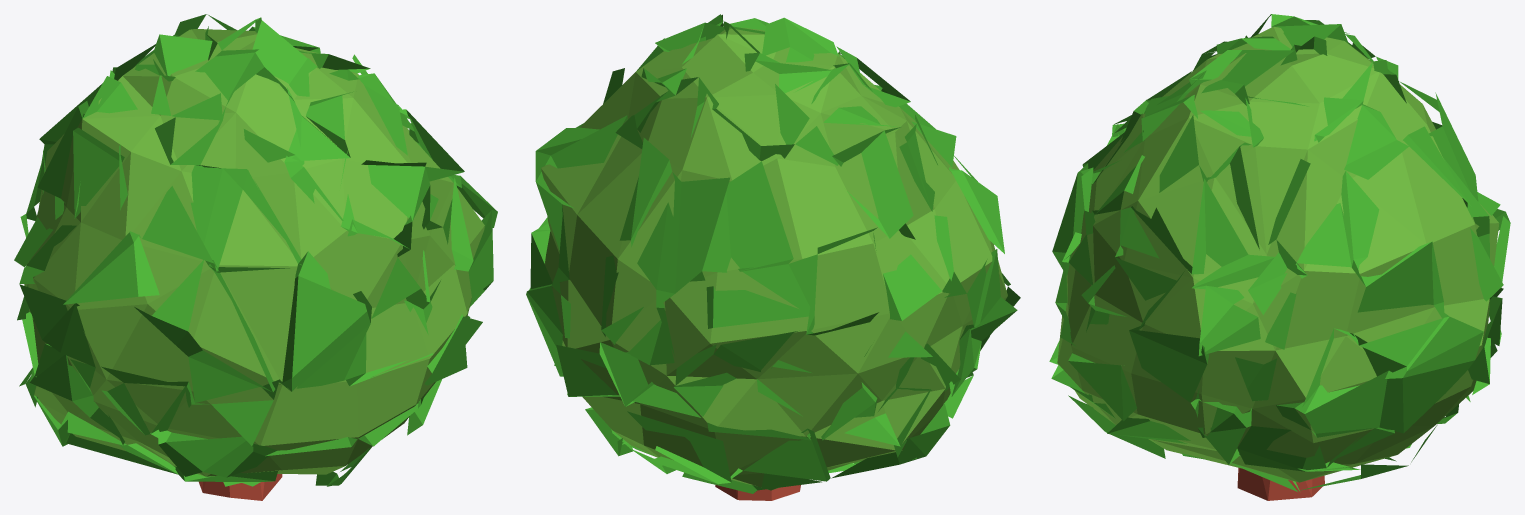
The model's file is First.gltf.
3 views of the same model, side by side, from view 1: azimuth 30°, elevation 25°; view 2: azimuth 150°, elevation 25°; view 3: azimuth 270°, elevation 25° (orthographic).
Visible parts, largest first — view 1: Sphere, Sphere.001, Cylinder; view 2: Sphere, Sphere.001, Cylinder; view 3: Sphere, Sphere.001, Cylinder.
Part boxes in pixels (x1,y1,x2,y2): Sphere: [24, 29, 484, 476]; Sphere.001: [14, 14, 497, 486]; Cylinder: [199, 474, 282, 500]; Sphere: [541, 27, 1007, 490]; Sphere.001: [526, 14, 1020, 493]; Cylinder: [715, 485, 800, 500]; Sphere: [1057, 26, 1499, 482]; Sphere.001: [1049, 14, 1510, 491]; Cylinder: [1237, 467, 1324, 500].
Bounding box in the file's own units: 2.13 × 2.16 × 1.98.
